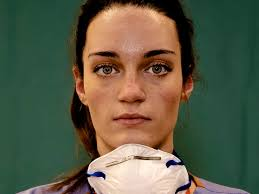mask_weared_incorrect: (87, 45, 180, 170)
